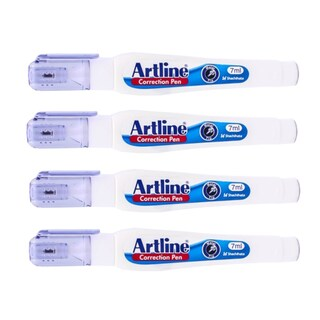Correction_fluid: (25, 224, 305, 273), (24, 108, 300, 155), (27, 167, 303, 212), (25, 52, 300, 95)
